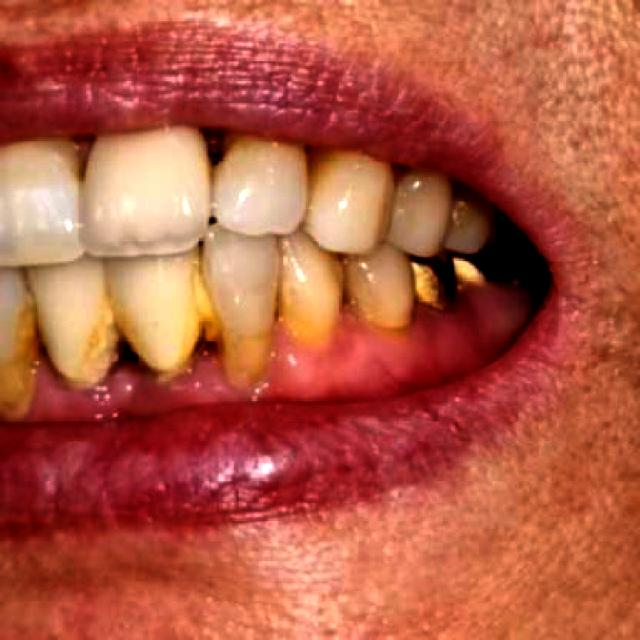Plaque: (31, 335, 297, 421)
